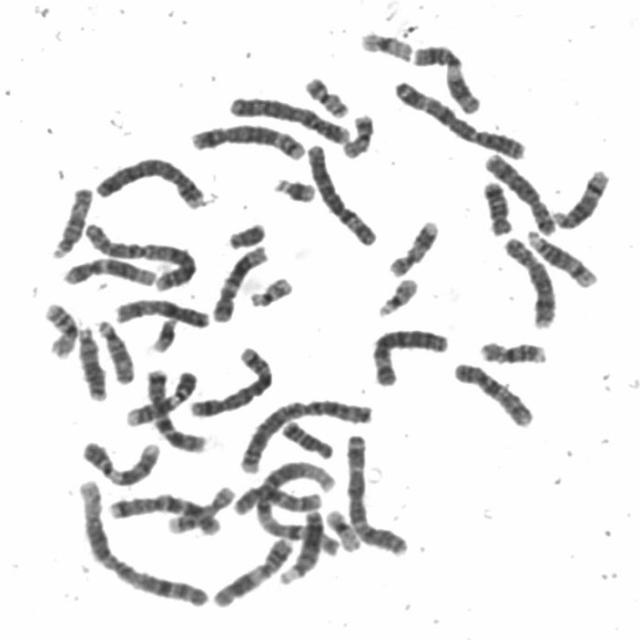A1: (71, 474, 211, 610), (250, 451, 344, 559)
A2: (234, 391, 378, 474), (78, 215, 200, 292)
A3: (387, 71, 530, 161), (340, 426, 412, 557)
B4: (224, 89, 354, 146), (89, 150, 209, 210)
B5: (184, 339, 276, 419), (184, 117, 309, 161)
C10: (447, 354, 538, 429), (228, 478, 328, 516)
C11: (206, 532, 296, 609), (408, 36, 484, 116)
C12: (207, 237, 271, 324), (58, 252, 160, 288)
C6: (300, 136, 380, 248), (366, 321, 452, 388)
C7: (140, 362, 210, 454), (102, 487, 224, 537)
C8: (479, 145, 560, 237), (498, 230, 561, 330)
C9: (120, 364, 200, 428), (75, 432, 164, 488)
D13: (274, 503, 328, 586), (71, 319, 110, 402)
D14: (521, 224, 601, 288), (548, 161, 614, 231)
D15: (44, 180, 94, 260), (91, 312, 138, 386)
E16: (37, 295, 81, 359), (474, 333, 551, 366)
E17: (161, 479, 238, 535), (383, 214, 442, 278)
E18: (277, 414, 337, 460), (477, 173, 516, 237)
F19: (355, 24, 417, 63), (320, 502, 364, 553)
F20: (299, 69, 352, 119), (336, 106, 378, 160)
G21: (268, 170, 320, 204), (145, 311, 180, 354)
G22: (372, 270, 422, 319), (244, 269, 297, 309)
X: (108, 290, 214, 330)
Y: (222, 216, 270, 251)
